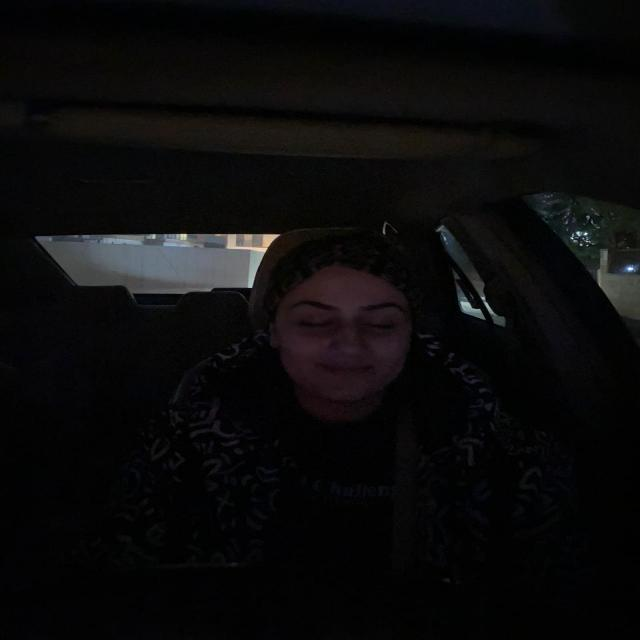drowsy: (284, 258, 428, 402)
